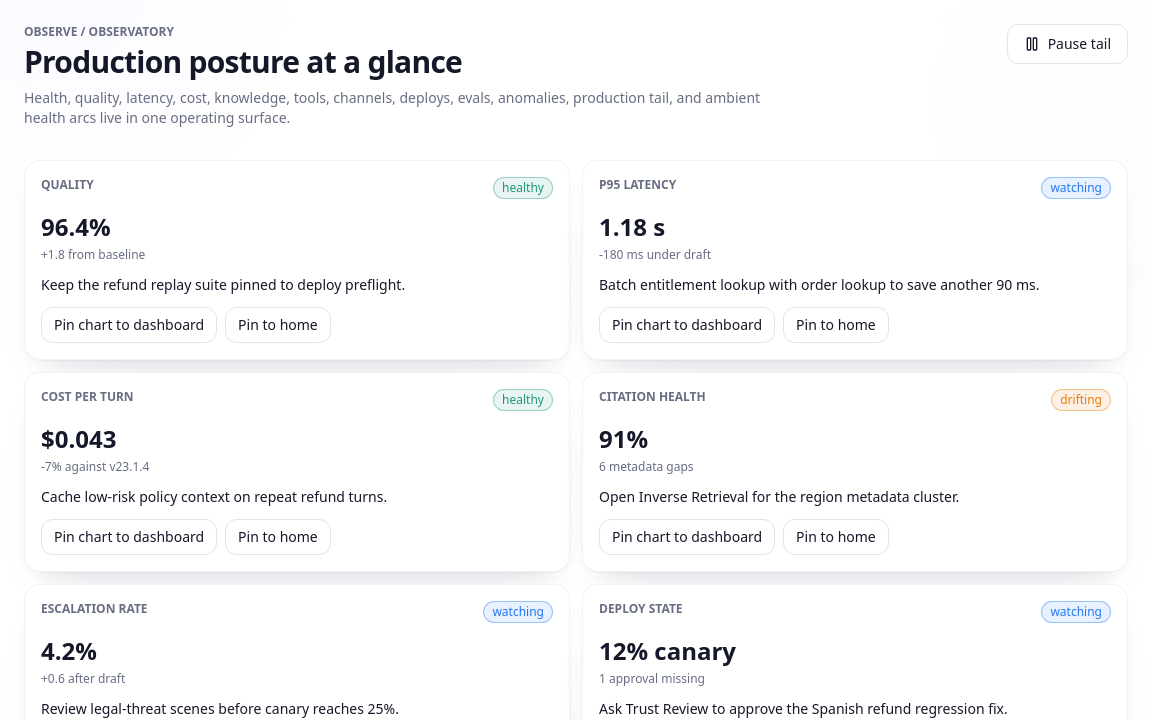
ObservatoryScreen › pins dashboard metrics only after backend persistence succeeds
Click the button with test id "observatory-pin-quality" at point(129, 325), box x1=41 y1=307 x2=217 y2=343
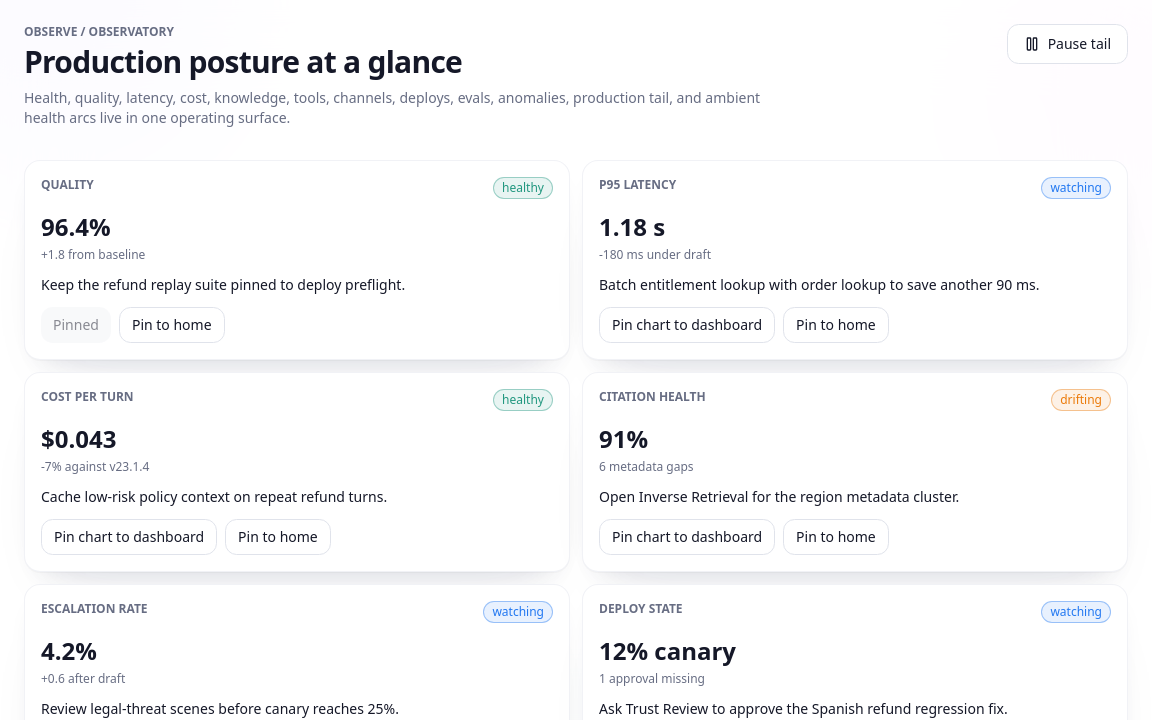
Now the button "Pinned" is shown, box x1=41 y1=307 x2=111 y2=343
